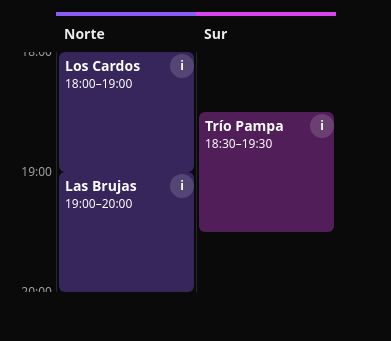
PersonalDayGrid › reverts and reports when saving fails
What coordinates should you click on to do the following:
click the button "Los Cardos 18:00–19:00"
I would click on:
 (126, 112)
Its box is x1=59 y1=52 x2=194 y2=172.
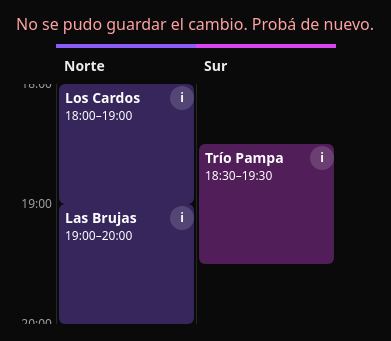
Now the message shows "No se pudo guardar el cambio", box x1=16 y1=13 x2=374 y2=35
